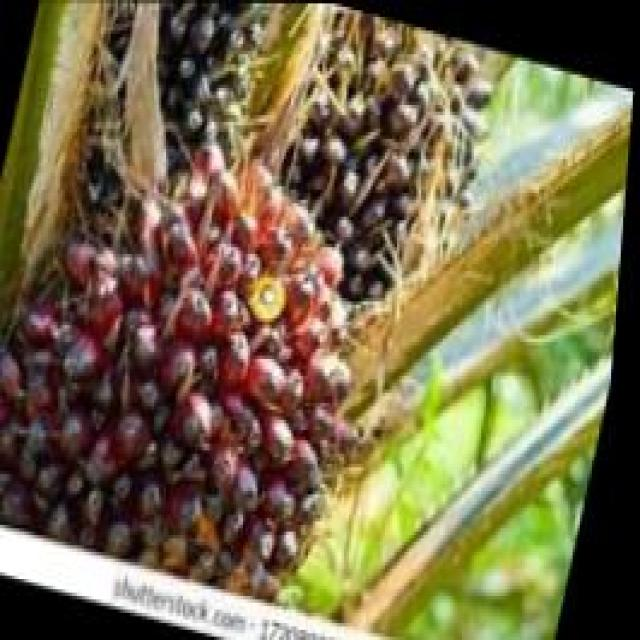Ripefruit: (0, 96, 397, 604)
